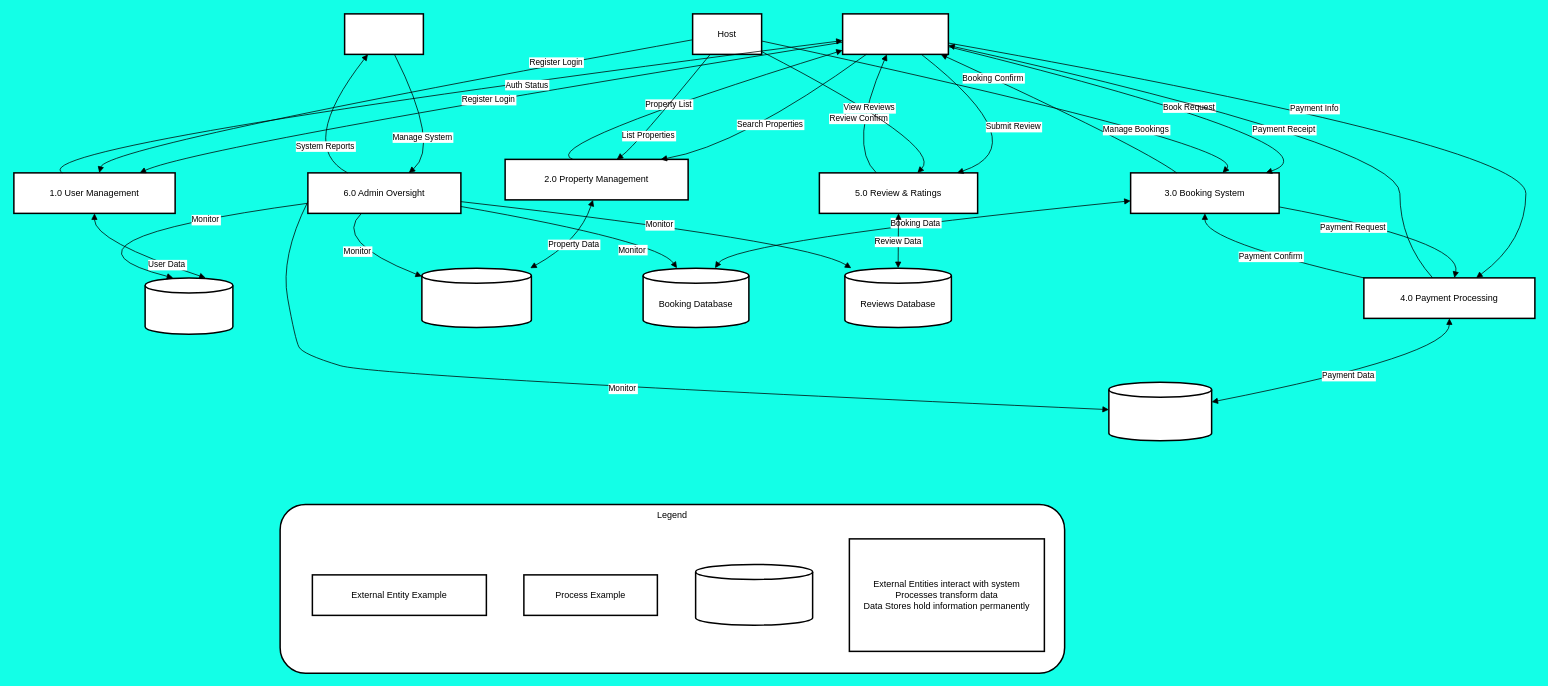
This 1548x686 diagram has some shape labels left out. The box of each missing label's shape, as (x1, y1, x2, y2) in pixels:
Admin: (344, 13, 424, 55)
Data Store Example: (694, 563, 813, 626)
Guest/User: (842, 13, 949, 55)
Payment Records: (1108, 381, 1212, 441)
Property Database: (421, 267, 532, 328)
User Database: (144, 277, 233, 334)
